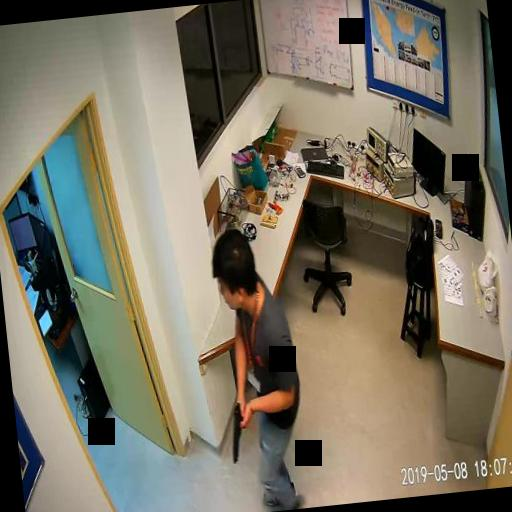Handgun: (226, 398, 250, 462)
